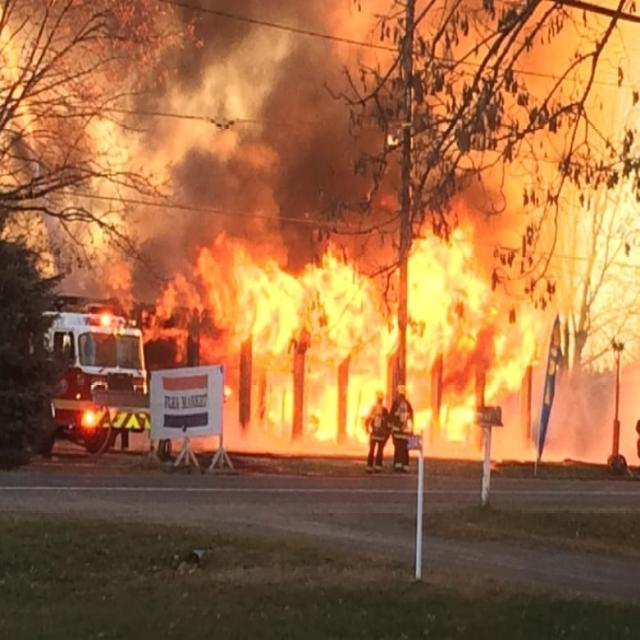Fire: (150, 200, 534, 454)
Smoke: (124, 0, 460, 328)
